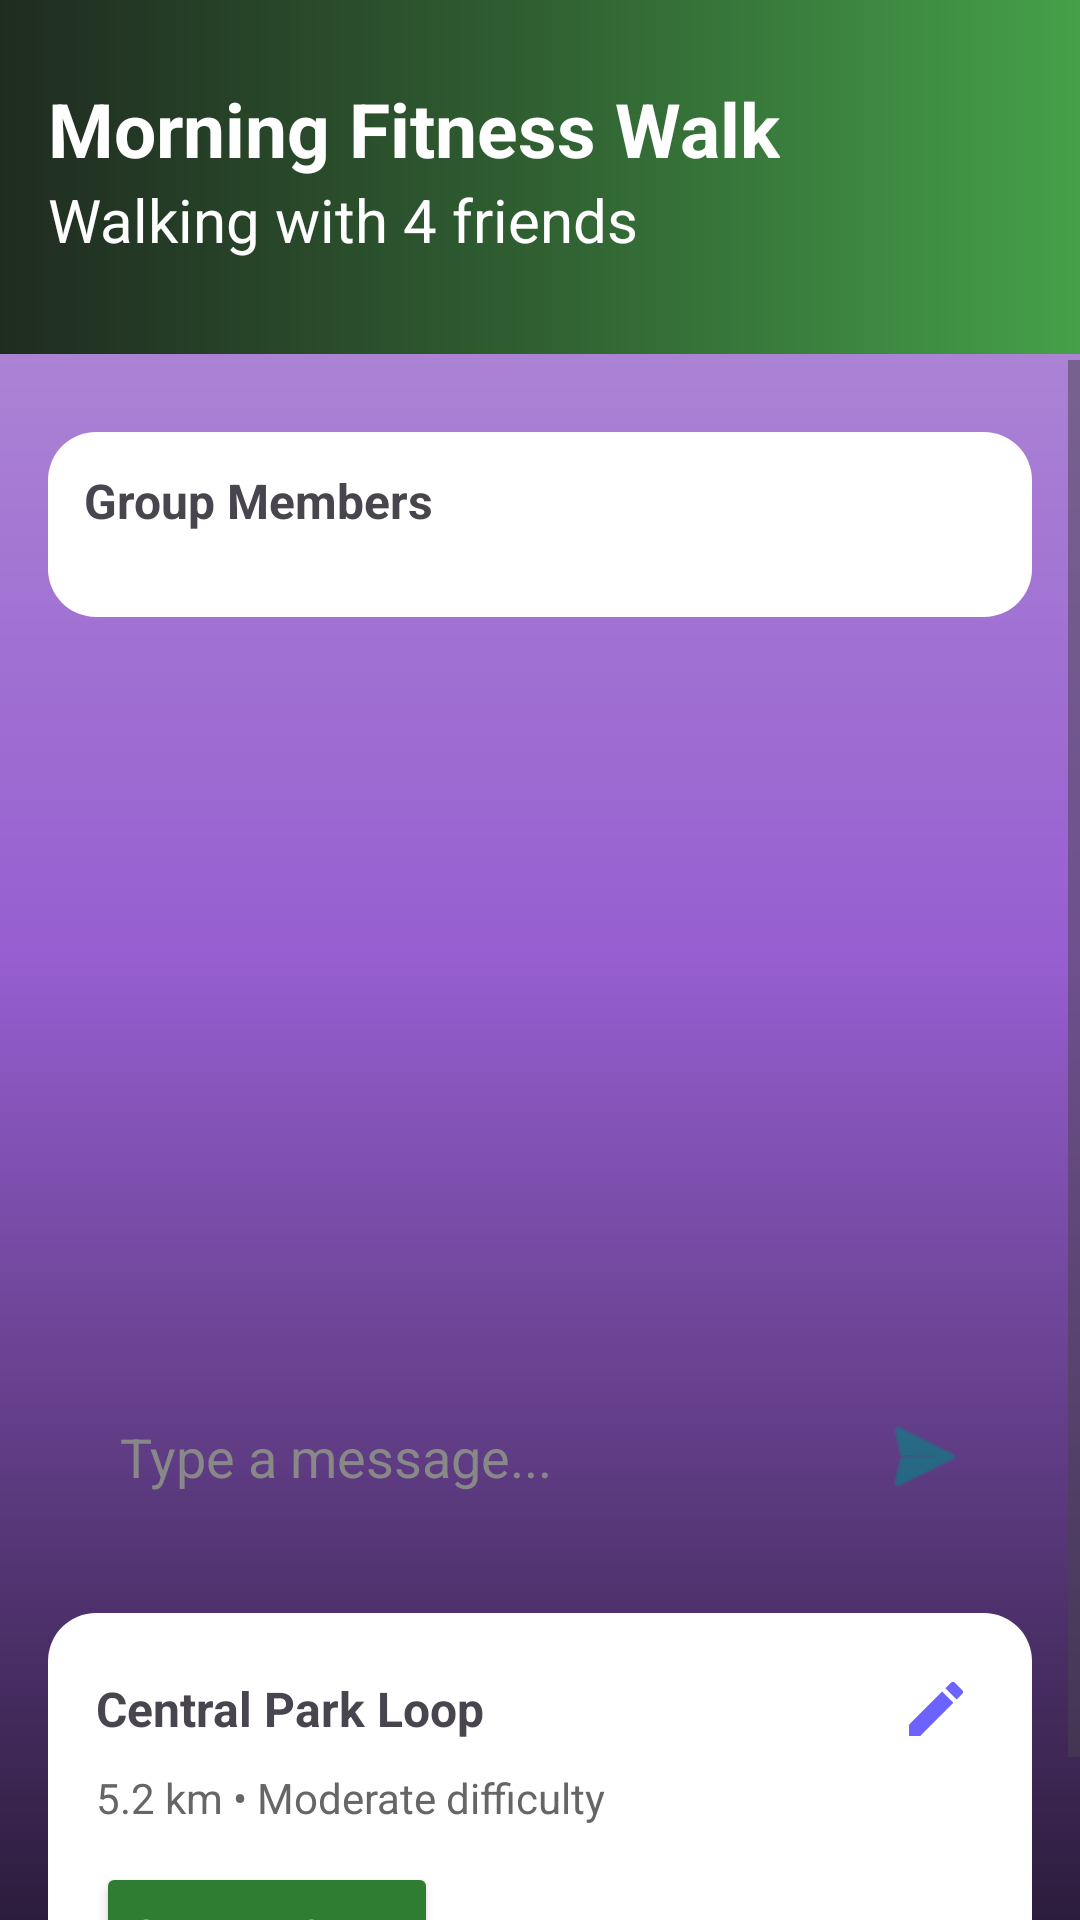

Icon bounding boxes for this 1080w x 1920h phone screenshot, format (x1, y1, x2, y2):
Edit route info: (909, 1682, 963, 1736)
send: (894, 1427, 955, 1487)
